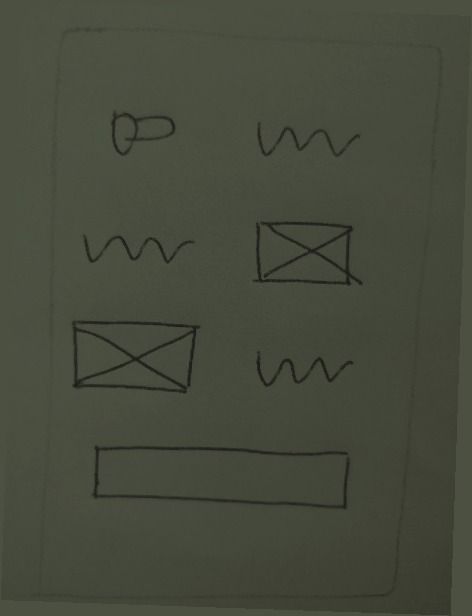image: (59, 311, 209, 402), (243, 212, 370, 298)
switch: (101, 100, 187, 166)
text: (70, 222, 202, 278), (247, 342, 362, 402), (246, 114, 369, 165)
text_input: (83, 437, 355, 520)
